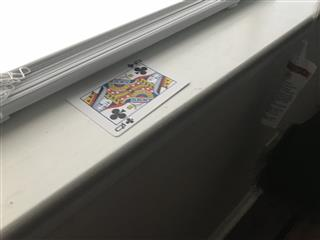QueenOfClubs: (63, 55, 191, 136)
